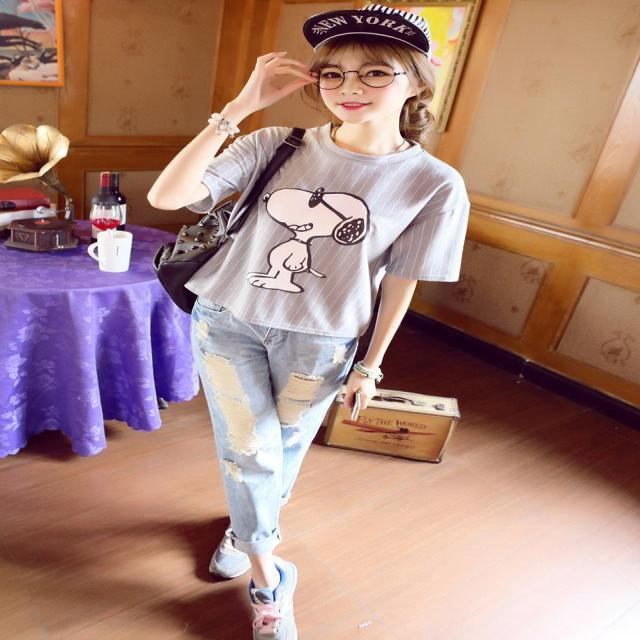short-sleeve-top: (190, 116, 496, 328)
trousers: (164, 326, 470, 570)
